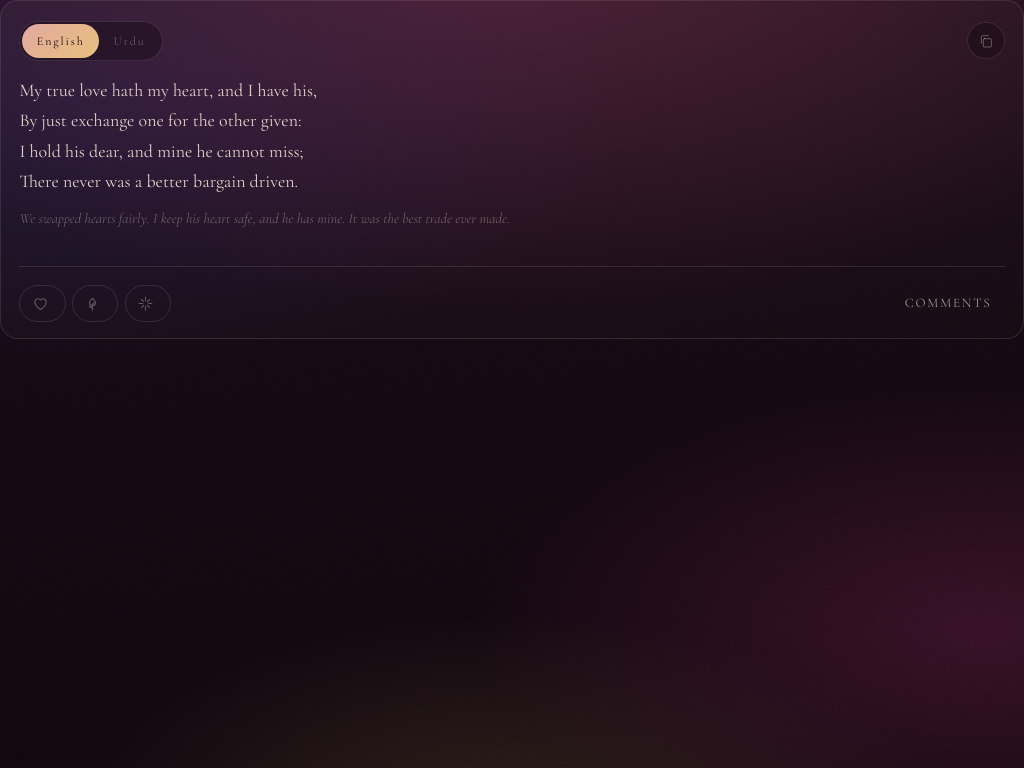
Test: an English card › switches to our translation, labelled as a translation, right to left
Click the tab "Urdu" at (129, 41), box [99, 24, 160, 58]
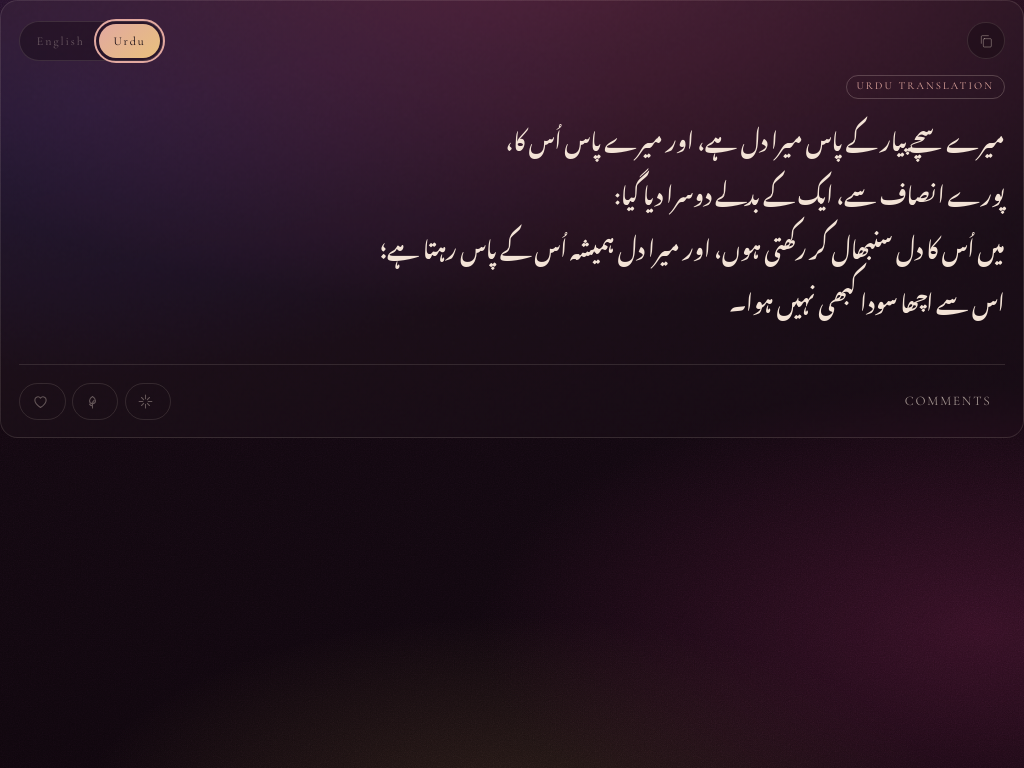
Expected: the text "Urdu translation" is shown, [846, 75, 1005, 99]
